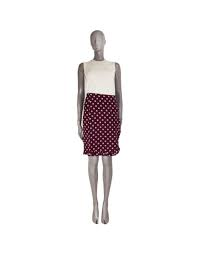C_skirt: (73, 90, 125, 159)
